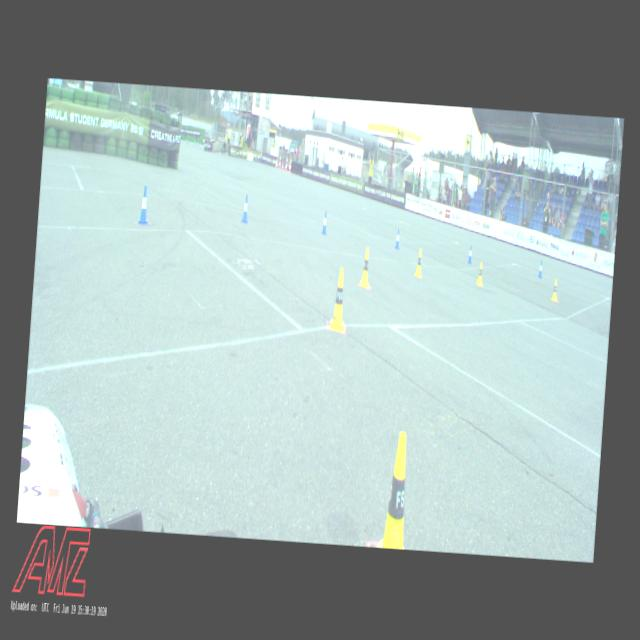blue_cone: (138, 186, 150, 224), (240, 194, 249, 223), (321, 210, 327, 234), (394, 228, 400, 248), (537, 259, 542, 277), (467, 245, 472, 262)
yellow_cone: (376, 428, 417, 548), (330, 268, 348, 330), (359, 247, 371, 287), (415, 248, 423, 276), (550, 278, 558, 302), (475, 262, 483, 286)
